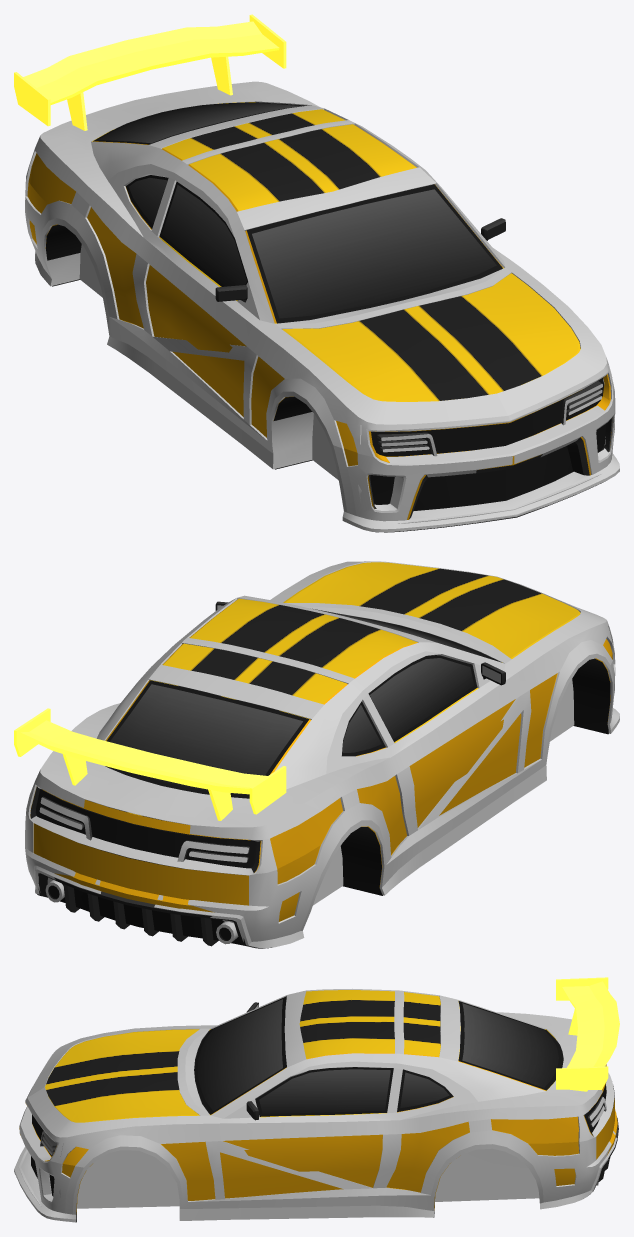
Rendered from sports.glb.
3 views of the same model, one above another, from view 1: azimuth 30°, elevation 25°; view 2: azimuth 150°, elevation 25°; view 3: azimuth 270°, elevation 25° (orthographic). The views are drawn at different scales.
Visible parts, largest first — view 1: body, frame, spoiler; view 2: body, frame, spoiler; view 3: frame, body, spoiler.
Boxes of the visible parts, x1=… form: body: x1=27, y1=102, x2=612, y2=532; frame: x1=25, y1=81, x2=619, y2=532; spoiler: x1=14, y1=14, x2=286, y2=130; body: x1=30, y1=562, x2=612, y2=948; frame: x1=25, y1=561, x2=619, y2=948; spoiler: x1=14, y1=708, x2=286, y2=820; frame: x1=14, y1=988, x2=617, y2=1222; body: x1=15, y1=990, x2=618, y2=1222; spoiler: x1=556, y1=977, x2=619, y2=1091.
Bounding box in the file's own units: 2.01 × 1.32 × 4.71.
4 materials, 2 textured.
